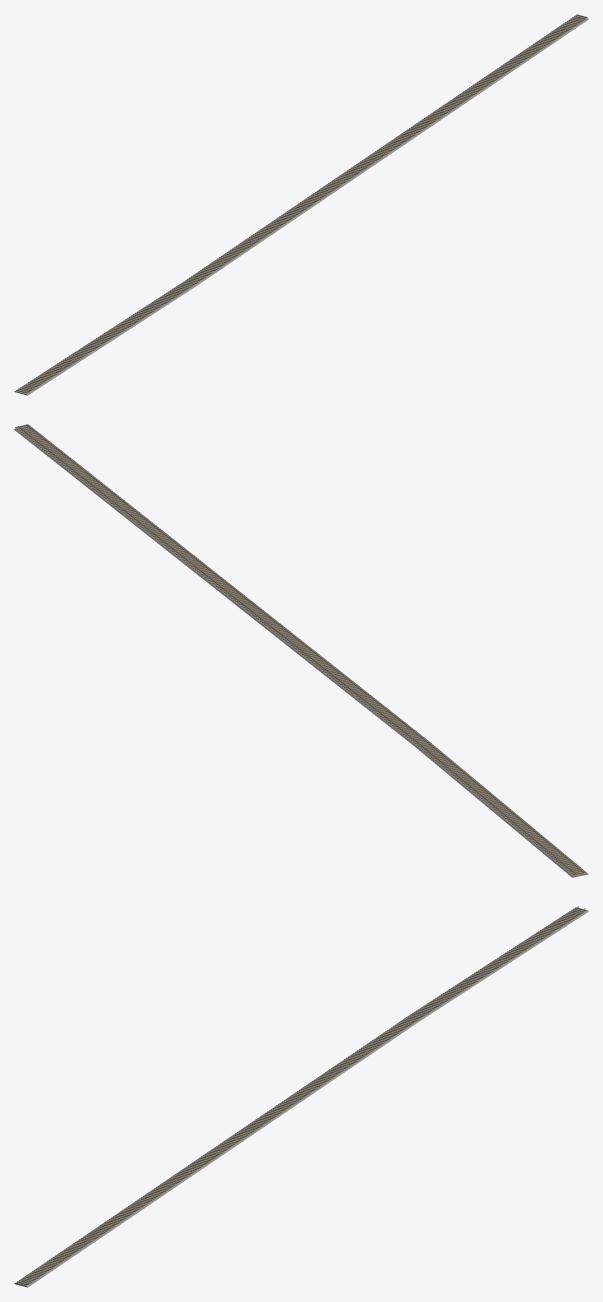
File: rail_01212.glb
3 views of the same model, one above another, from view 1: azimuth 90°, elevation 25°; view 2: azimuth 150°, elevation 25°; view 3: azimuth 270°, elevation 25° (orthographic). The views are drawn at different scales.
Visible parts, largest first — view 1: Sleepers, Ballast, Rails; view 2: Sleepers, Ballast, Rails; view 3: Sleepers, Ballast, Rails.
Part boxes in pixels (box(x1,y1,x2,y2)): Sleepers: box(16, 14, 587, 393); Ballast: box(14, 15, 588, 395); Rails: box(17, 14, 585, 392); Sleepers: box(15, 424, 586, 875); Ballast: box(14, 425, 588, 877); Rails: box(18, 424, 584, 874); Sleepers: box(15, 907, 586, 1286); Ballast: box(14, 907, 588, 1287); Rails: box(17, 906, 585, 1284).
Bounding box in the file's own units: 164 × 0.48 × 105.
